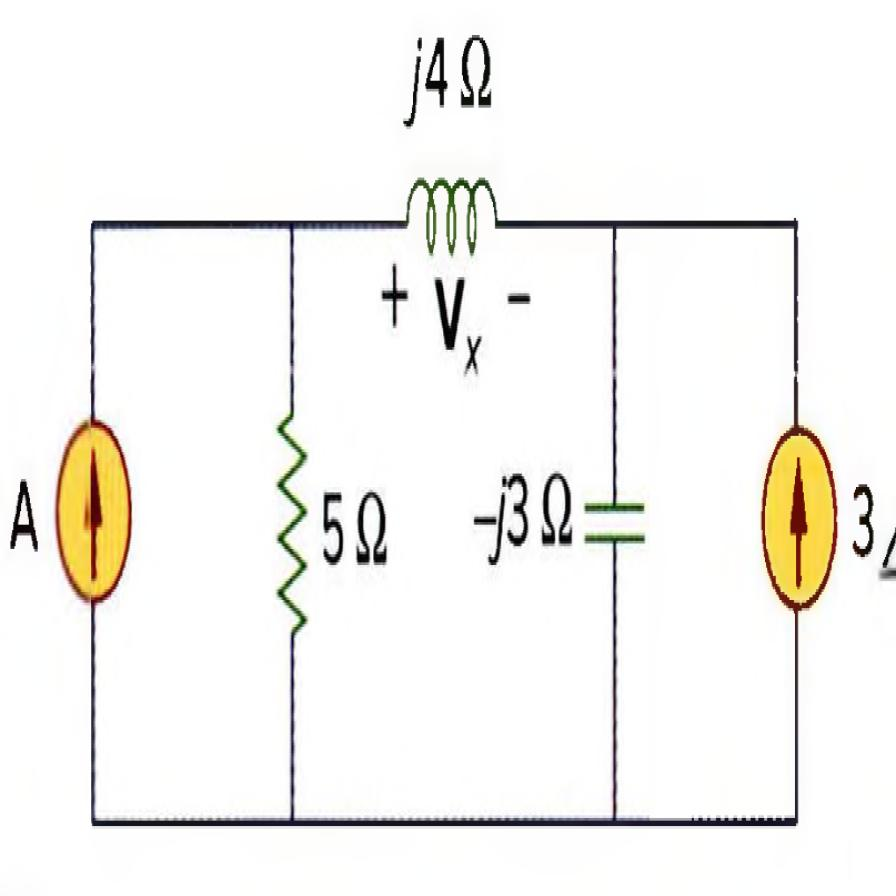C2: (577, 452, 653, 590)
I1: (44, 397, 138, 626), (753, 418, 845, 632)
L1: (389, 142, 511, 273)
R2: (259, 388, 313, 669)
